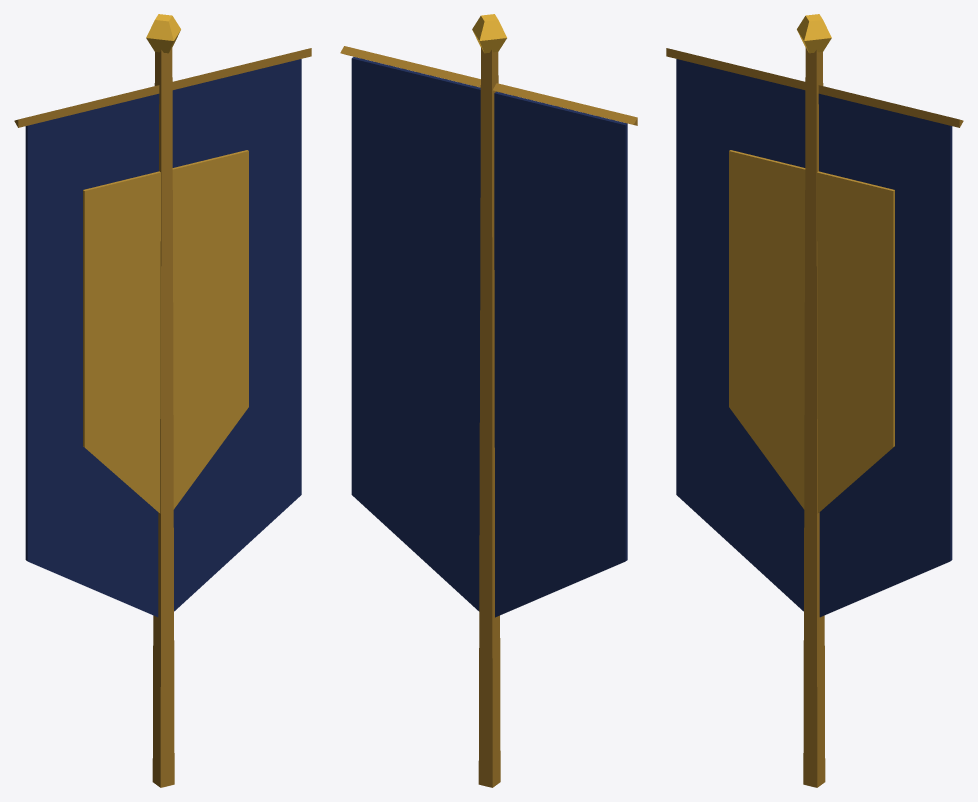
File: SM_Prop_ArmadaBanner_LQ.glb
3 renders of one model, left to right at view 1: azimuth 30°, elevation 25°; view 2: azimuth 150°, elevation 25°; view 3: azimuth 330°, elevation 25°, orthographic.
Visible parts, largest first — view 1: SM_Prop_ArmadaBanner_LQ; view 2: SM_Prop_ArmadaBanner_LQ; view 3: SM_Prop_ArmadaBanner_LQ.
Boxes of the visible parts, left/top/right/bottom form: SM_Prop_ArmadaBanner_LQ: left=14, top=14, right=311, bottom=787; SM_Prop_ArmadaBanner_LQ: left=340, top=14, right=637, bottom=787; SM_Prop_ArmadaBanner_LQ: left=666, top=14, right=963, bottom=787.
Size of the model in its own units: 1.5 by 3.74 by 0.18.
1 material, 1 textured.
